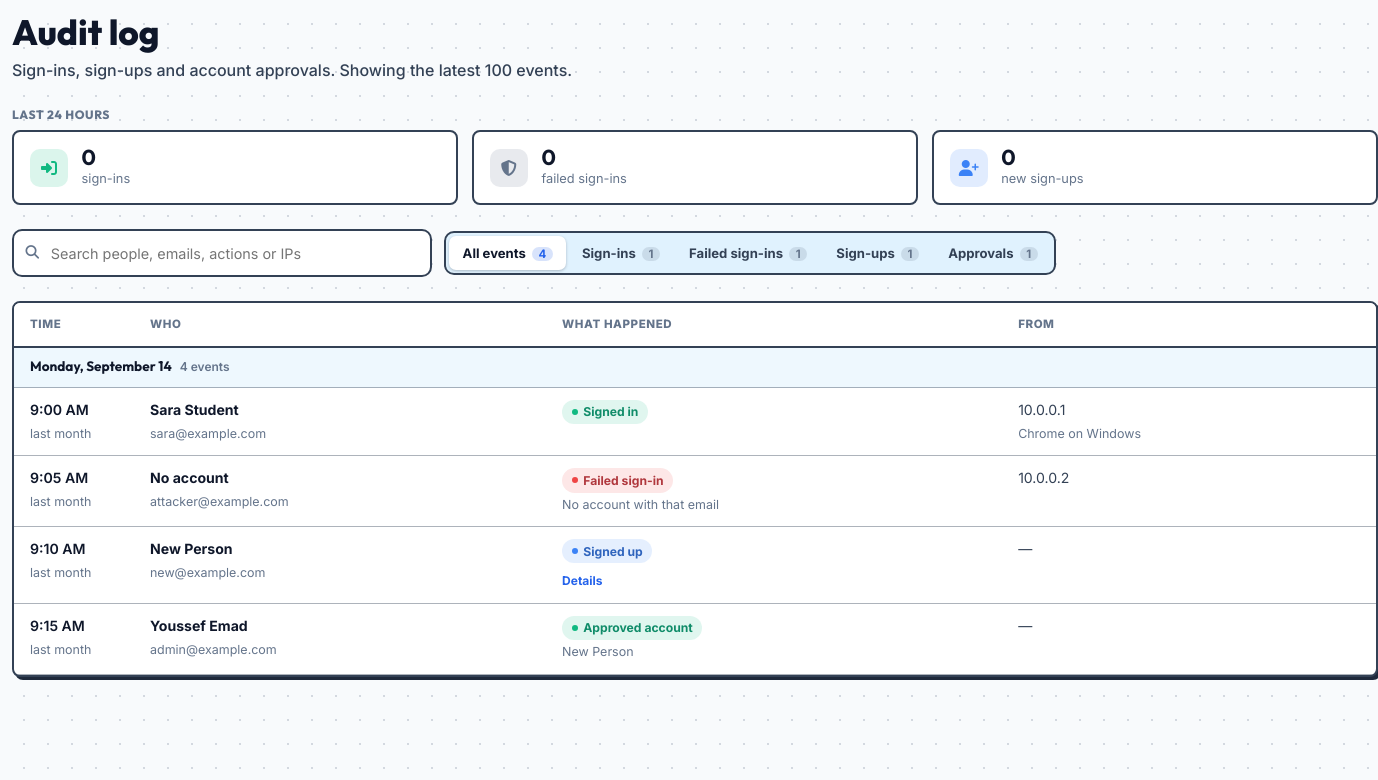
audit log page › searches the readable label, not just the raw action
The image size is (1378, 780).
Type "signed up" into the search field with placeholder "Search people, emails, actions or IPs" at (222, 253), box x1=12 y1=230 x2=432 y2=277
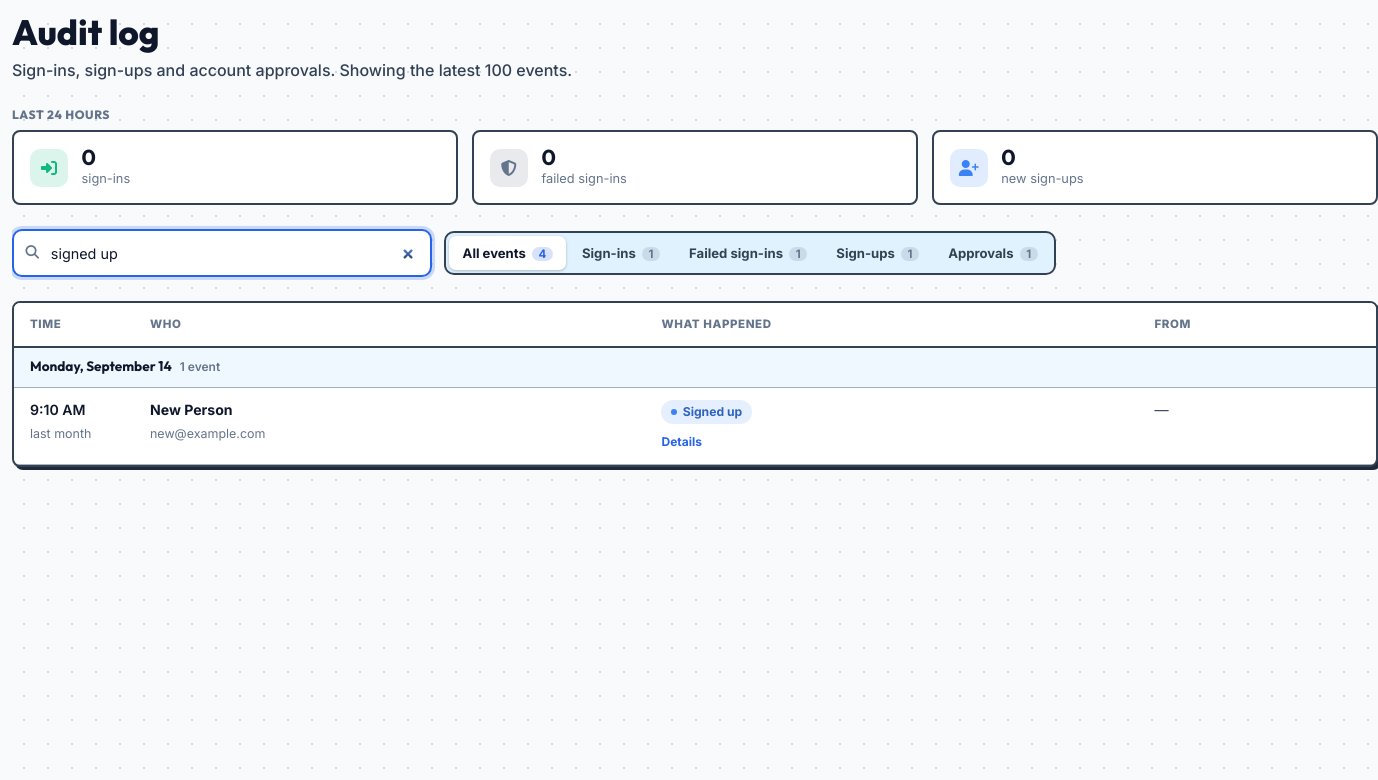
Expected: the text "Signed up" is shown, x1=662 y1=400 x2=752 y2=424
Now the text "Signed in" is gone
